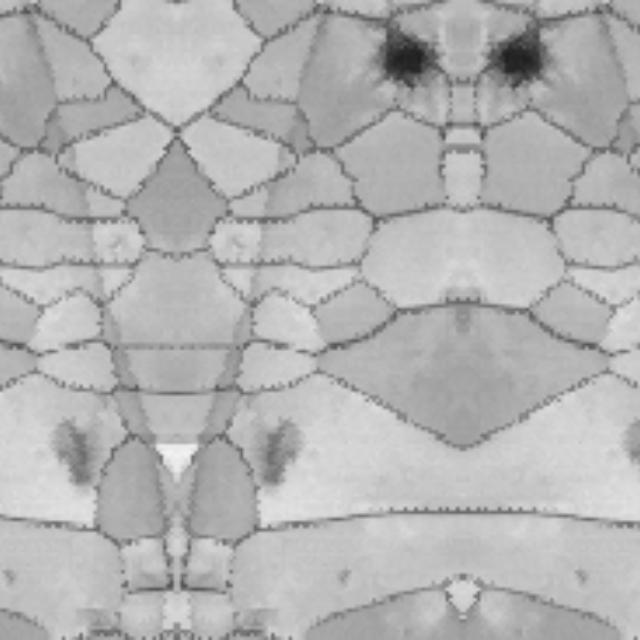good_void: (43, 410, 108, 498), (247, 410, 311, 498), (375, 6, 438, 93), (490, 6, 553, 93), (617, 410, 640, 494), (330, 561, 363, 597), (565, 561, 598, 597), (0, 561, 24, 597)
